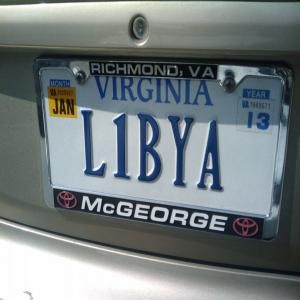Vehicle-registration-plate: (37, 46, 297, 262)
